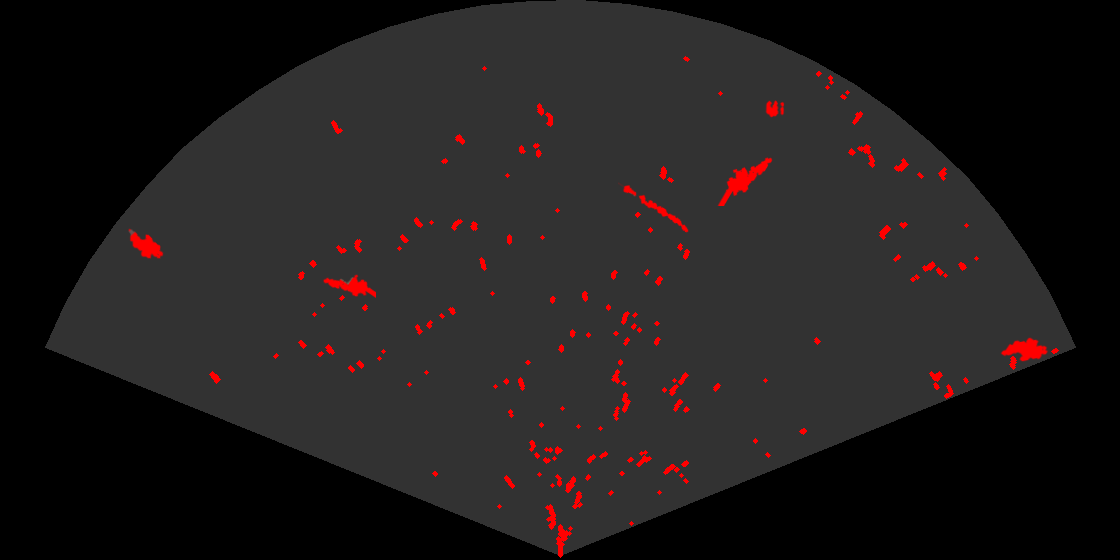AUV: (999, 336, 1050, 363), (127, 227, 165, 260)
ball: (764, 99, 786, 119)
chain: (618, 181, 690, 234)
frogman: (716, 156, 774, 206), (322, 273, 376, 300)
